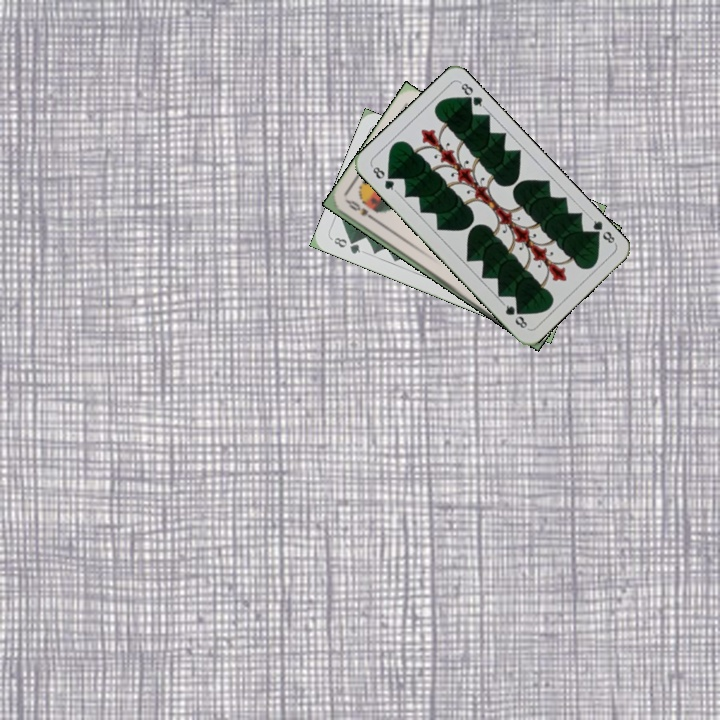G8: (586, 213, 618, 248), (368, 161, 399, 194), (329, 233, 363, 256)
SO: (343, 196, 379, 224)
